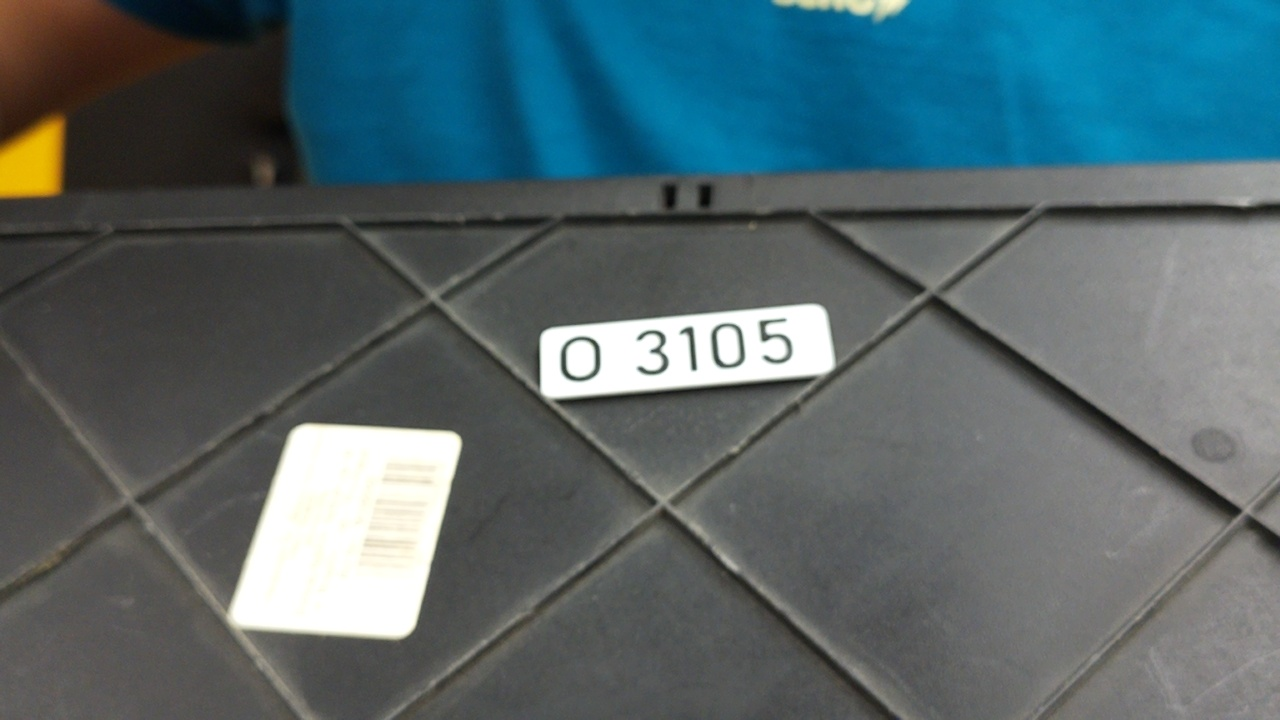license_plate: (537, 301, 843, 402)
